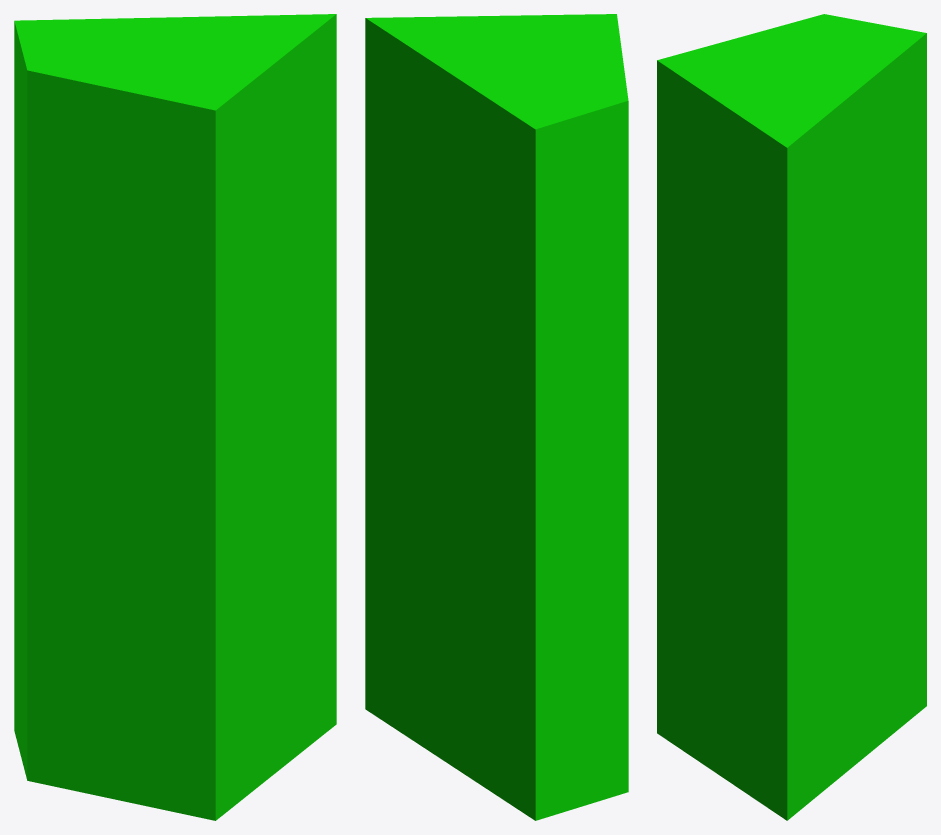
3 renders of one model, left to right at view 1: azimuth 30°, elevation 25°; view 2: azimuth 150°, elevation 25°; view 3: azimuth 270°, elevation 25°, orthographic. The views are drawn at different scales.
Visible parts, largest first — view 1: Plane.024; view 2: Plane.024; view 3: Plane.024.
Part boxes in pixels (<box>): Plane.024: <box>14,14,336,820</box>; Plane.024: <box>365,14,628,820</box>; Plane.024: <box>657,14,926,820</box>.
Size of the model in its own units: 360 by 844 by 307.
